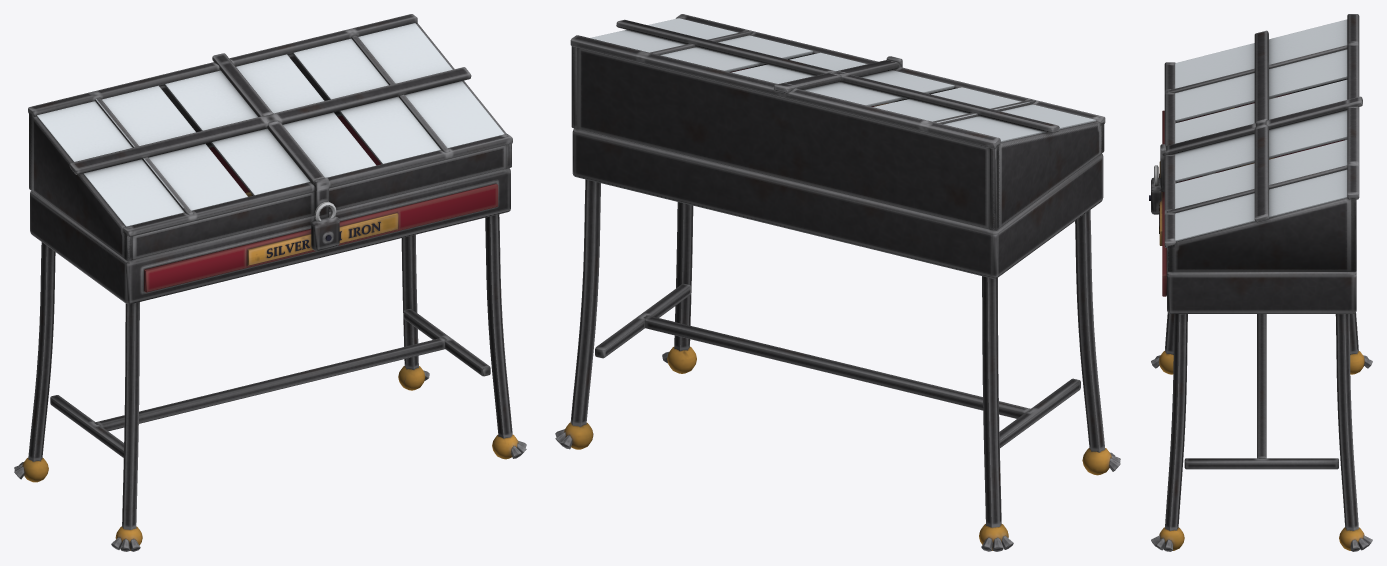
Rendered from SilverDaggerCase.fbx.
The picture shows the model from 3 angles, left to right: view 1: azimuth 30°, elevation 25°; view 2: azimuth 150°, elevation 25°; view 3: azimuth 270°, elevation 25°; orthographic projection. The views are drawn at different scales.
Visible parts, largest first — view 1: SilverDaggerCase_Main, SilverDaggerCase_Glass; view 2: SilverDaggerCase_Main, SilverDaggerCase_Glass; view 3: SilverDaggerCase_Main, SilverDaggerCase_Glass.
Boxes of the visible parts, x1,y1,x2,y2 form: SilverDaggerCase_Main: (14,14,526,551); SilverDaggerCase_Glass: (36,23,504,226); SilverDaggerCase_Main: (555,14,1120,551); SilverDaggerCase_Glass: (590,18,1096,142); SilverDaggerCase_Main: (1149,14,1372,551); SilverDaggerCase_Glass: (1175,19,1347,241).
Size of the model in its own units: 387 by 337 by 189.
